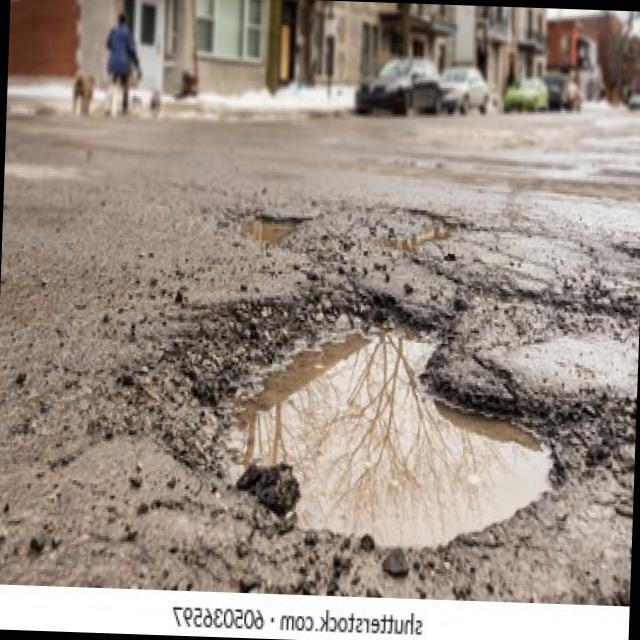pothole: (195, 290, 568, 556), (384, 206, 464, 256), (234, 206, 300, 251)
